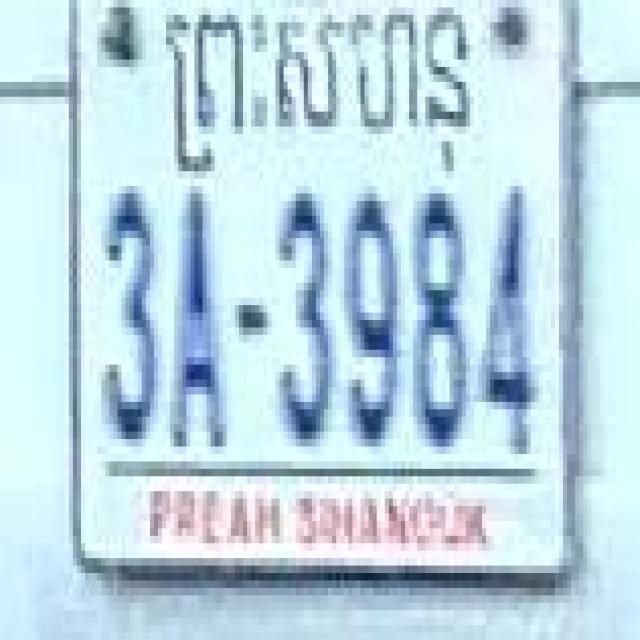Preah_Sihanouk: (162, 0, 470, 182)
